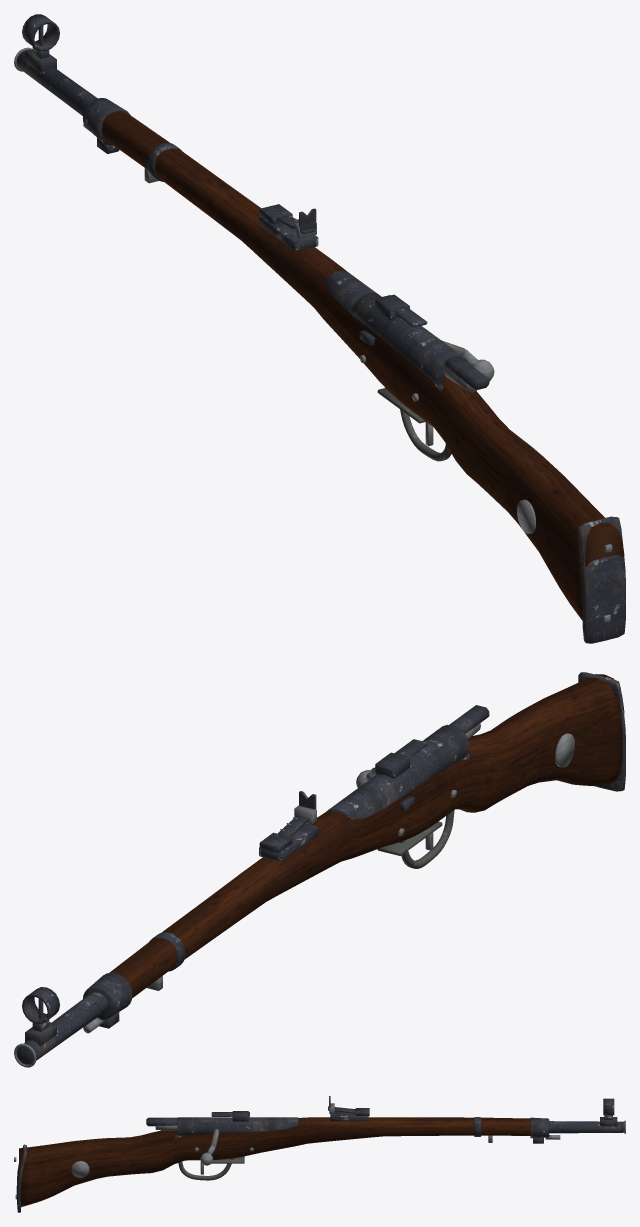
The model's file is kar98k_v5.glb.
3 views of the same model, one above another, from view 1: azimuth 30°, elevation 25°; view 2: azimuth 150°, elevation 25°; view 3: azimuth 270°, elevation 25° (orthographic). The views are drawn at different scales.
Parts seen in each view (by area): view 1: stock, butt_plate, receiver, barrel, receiver_ring, nose_cap, fs_hood, rs_base; view 2: stock, receiver, barrel, nose_cap, receiver_ring, butt_plate, fs_hood, rs_base, trigger_guard, receiver_bridge, floor_plate, rear_tang (+1 smaller); view 3: stock, receiver, barrel, nose_cap, receiver_ring, trigger_guard, rs_base, butt_plate, rear_tang, sling_disc_R, fs_hood.
Part boxes in pixels (x1=…): stock: x1=102, y1=111, x2=624, y2=620; butt_plate: x1=578, y1=516, x2=625, y2=643; receiver: x1=350, y1=292, x2=468, y2=384; barrel: x1=16, y1=50, x2=97, y2=115; receiver_ring: x1=324, y1=270, x2=377, y2=313; nose_cap: x1=82, y1=98, x2=130, y2=145; fs_hood: x1=22, y1=14, x2=59, y2=50; rs_base: x1=259, y1=216, x2=318, y2=251; stock: x1=109, y1=674, x2=624, y2=998; receiver: x1=357, y1=724, x2=469, y2=808; barrel: x1=16, y1=991, x2=107, y2=1064; nose_cap: x1=83, y1=972, x2=132, y2=1020; receiver_ring: x1=326, y1=786, x2=383, y2=820; butt_plate: x1=578, y1=672, x2=625, y2=791; fs_hood: x1=22, y1=987, x2=59, y2=1023; rs_base: x1=259, y1=823, x2=318, y2=861; trigger_guard: x1=399, y1=810, x2=454, y2=868; receiver_bridge: x1=375, y1=752, x2=409, y2=778; floor_plate: x1=377, y1=821, x2=442, y2=855; rear_tang: x1=449, y1=705, x2=489, y2=733; stock: x1=19, y1=1117, x2=530, y2=1207; receiver: x1=177, y1=1117, x2=267, y2=1135; barrel: x1=549, y1=1121, x2=624, y2=1133; nose_cap: x1=530, y1=1117, x2=549, y2=1138; receiver_ring: x1=266, y1=1117, x2=298, y2=1131; trigger_guard: x1=178, y1=1158, x2=234, y2=1180; rs_base: x1=330, y1=1111, x2=368, y2=1121; butt_plate: x1=16, y1=1144, x2=26, y2=1212; rear_tang: x1=146, y1=1117, x2=177, y2=1126; sling_disc_R: x1=71, y1=1161, x2=89, y2=1177; fs_hood: x1=603, y1=1098, x2=614, y2=1115.
Bounding box in the file's own units: 0.0993 × 0.2229 × 1.11.
4 materials, 4 textured.
